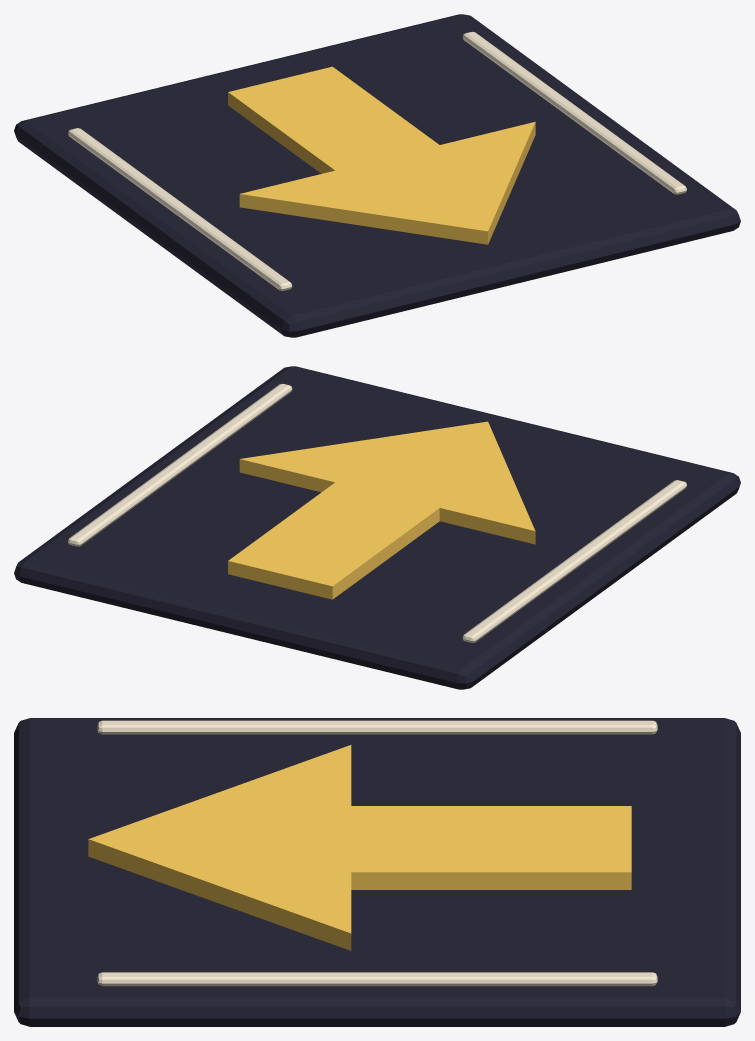
File: tile-arrow.glb
The picture shows the model from 3 angles, top to bottom: view 1: azimuth 30°, elevation 25°; view 2: azimuth 150°, elevation 25°; view 3: azimuth 270°, elevation 25°; orthographic projection. The views are drawn at different scales.
Parts seen in each view (by area): view 1: arrow-base, direction-arrow, ivory-side-rail.001, ivory-side-rail; view 2: arrow-base, direction-arrow, ivory-side-rail.001, ivory-side-rail; view 3: arrow-base, direction-arrow, ivory-side-rail, ivory-side-rail.001.
Part boxes in pixels (bbox=[...]): arrow-base: bbox=[14, 14, 740, 337]; direction-arrow: bbox=[228, 66, 535, 244]; ivory-side-rail.001: bbox=[462, 31, 686, 194]; ivory-side-rail: bbox=[68, 128, 292, 290]; arrow-base: bbox=[14, 366, 740, 689]; direction-arrow: bbox=[228, 421, 535, 599]; ivory-side-rail.001: bbox=[68, 383, 292, 546]; ivory-side-rail: bbox=[462, 480, 686, 642]; arrow-base: bbox=[14, 718, 740, 1026]; direction-arrow: bbox=[88, 745, 631, 950]; ivory-side-rail: bbox=[97, 720, 657, 734]; ivory-side-rail.001: bbox=[97, 972, 657, 986].
Size of the model in its own units: 0.79 by 0.06 by 0.83.
